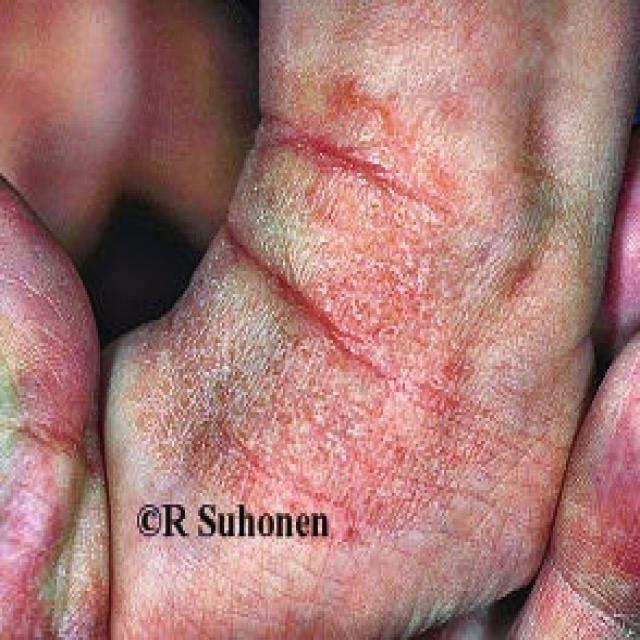Eczema: (167, 108, 541, 503)
